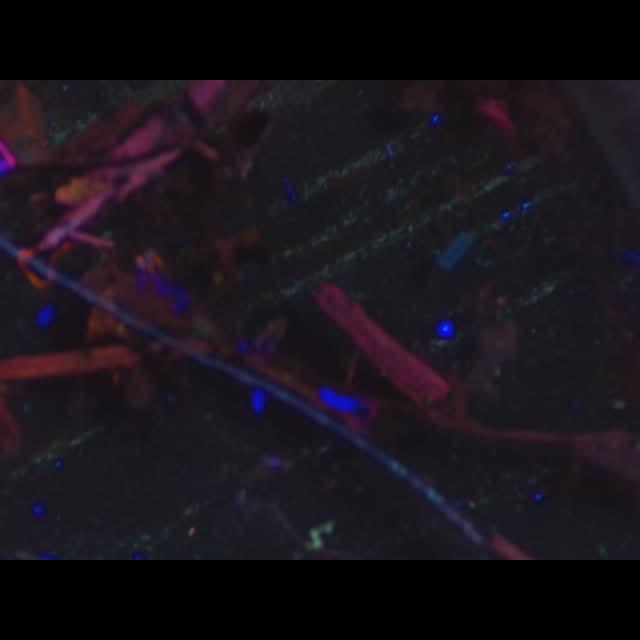Fibre: (304, 520, 334, 552)
